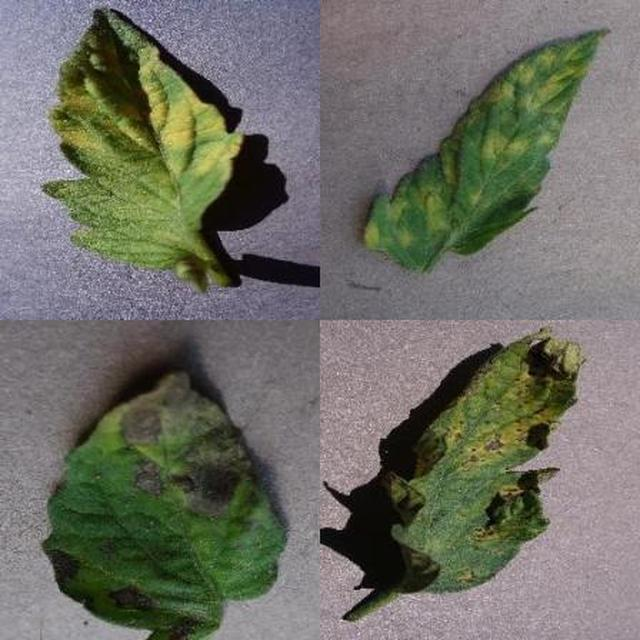Leaf Mold: (205, 196, 640, 640)
